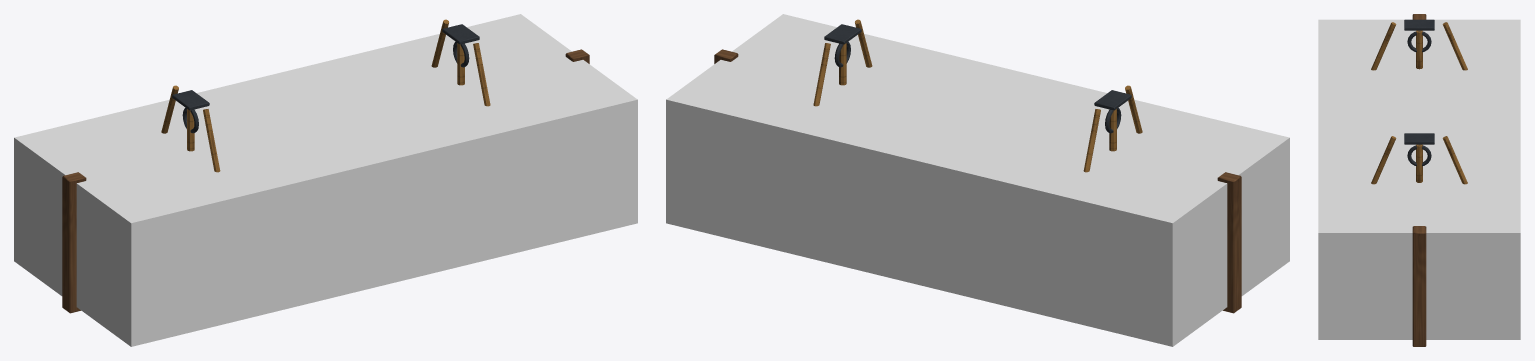
Rendered from settlement_inn_undercroft_boat_hung.gltf.
3 views of the same model, side by side, from view 1: azimuth 30°, elevation 25°; view 2: azimuth 150°, elevation 25°; view 3: azimuth 270°, elevation 25° (orthographic). The views are drawn at different scales.
Parts seen in each view (by area): view 1: settlement_inn_undercroft_boat_hung_col, settlement_inn_undercroft_boat_hung_LOD0; view 2: settlement_inn_undercroft_boat_hung_col, settlement_inn_undercroft_boat_hung_LOD0; view 3: settlement_inn_undercroft_boat_hung_col, settlement_inn_undercroft_boat_hung_LOD0.
Part boxes in pixels (x1,y1,x2,y2): settlement_inn_undercroft_boat_hung_col: [14, 14, 637, 346]; settlement_inn_undercroft_boat_hung_LOD0: [62, 19, 589, 313]; settlement_inn_undercroft_boat_hung_col: [666, 14, 1289, 346]; settlement_inn_undercroft_boat_hung_LOD0: [714, 19, 1241, 313]; settlement_inn_undercroft_boat_hung_col: [1318, 19, 1520, 339]; settlement_inn_undercroft_boat_hung_LOD0: [1371, 14, 1467, 346].
Size of what is drawn, in the model's own units: 3.08 by 1.04 by 1.2.
Materials: 4 (4 with a texture image).
